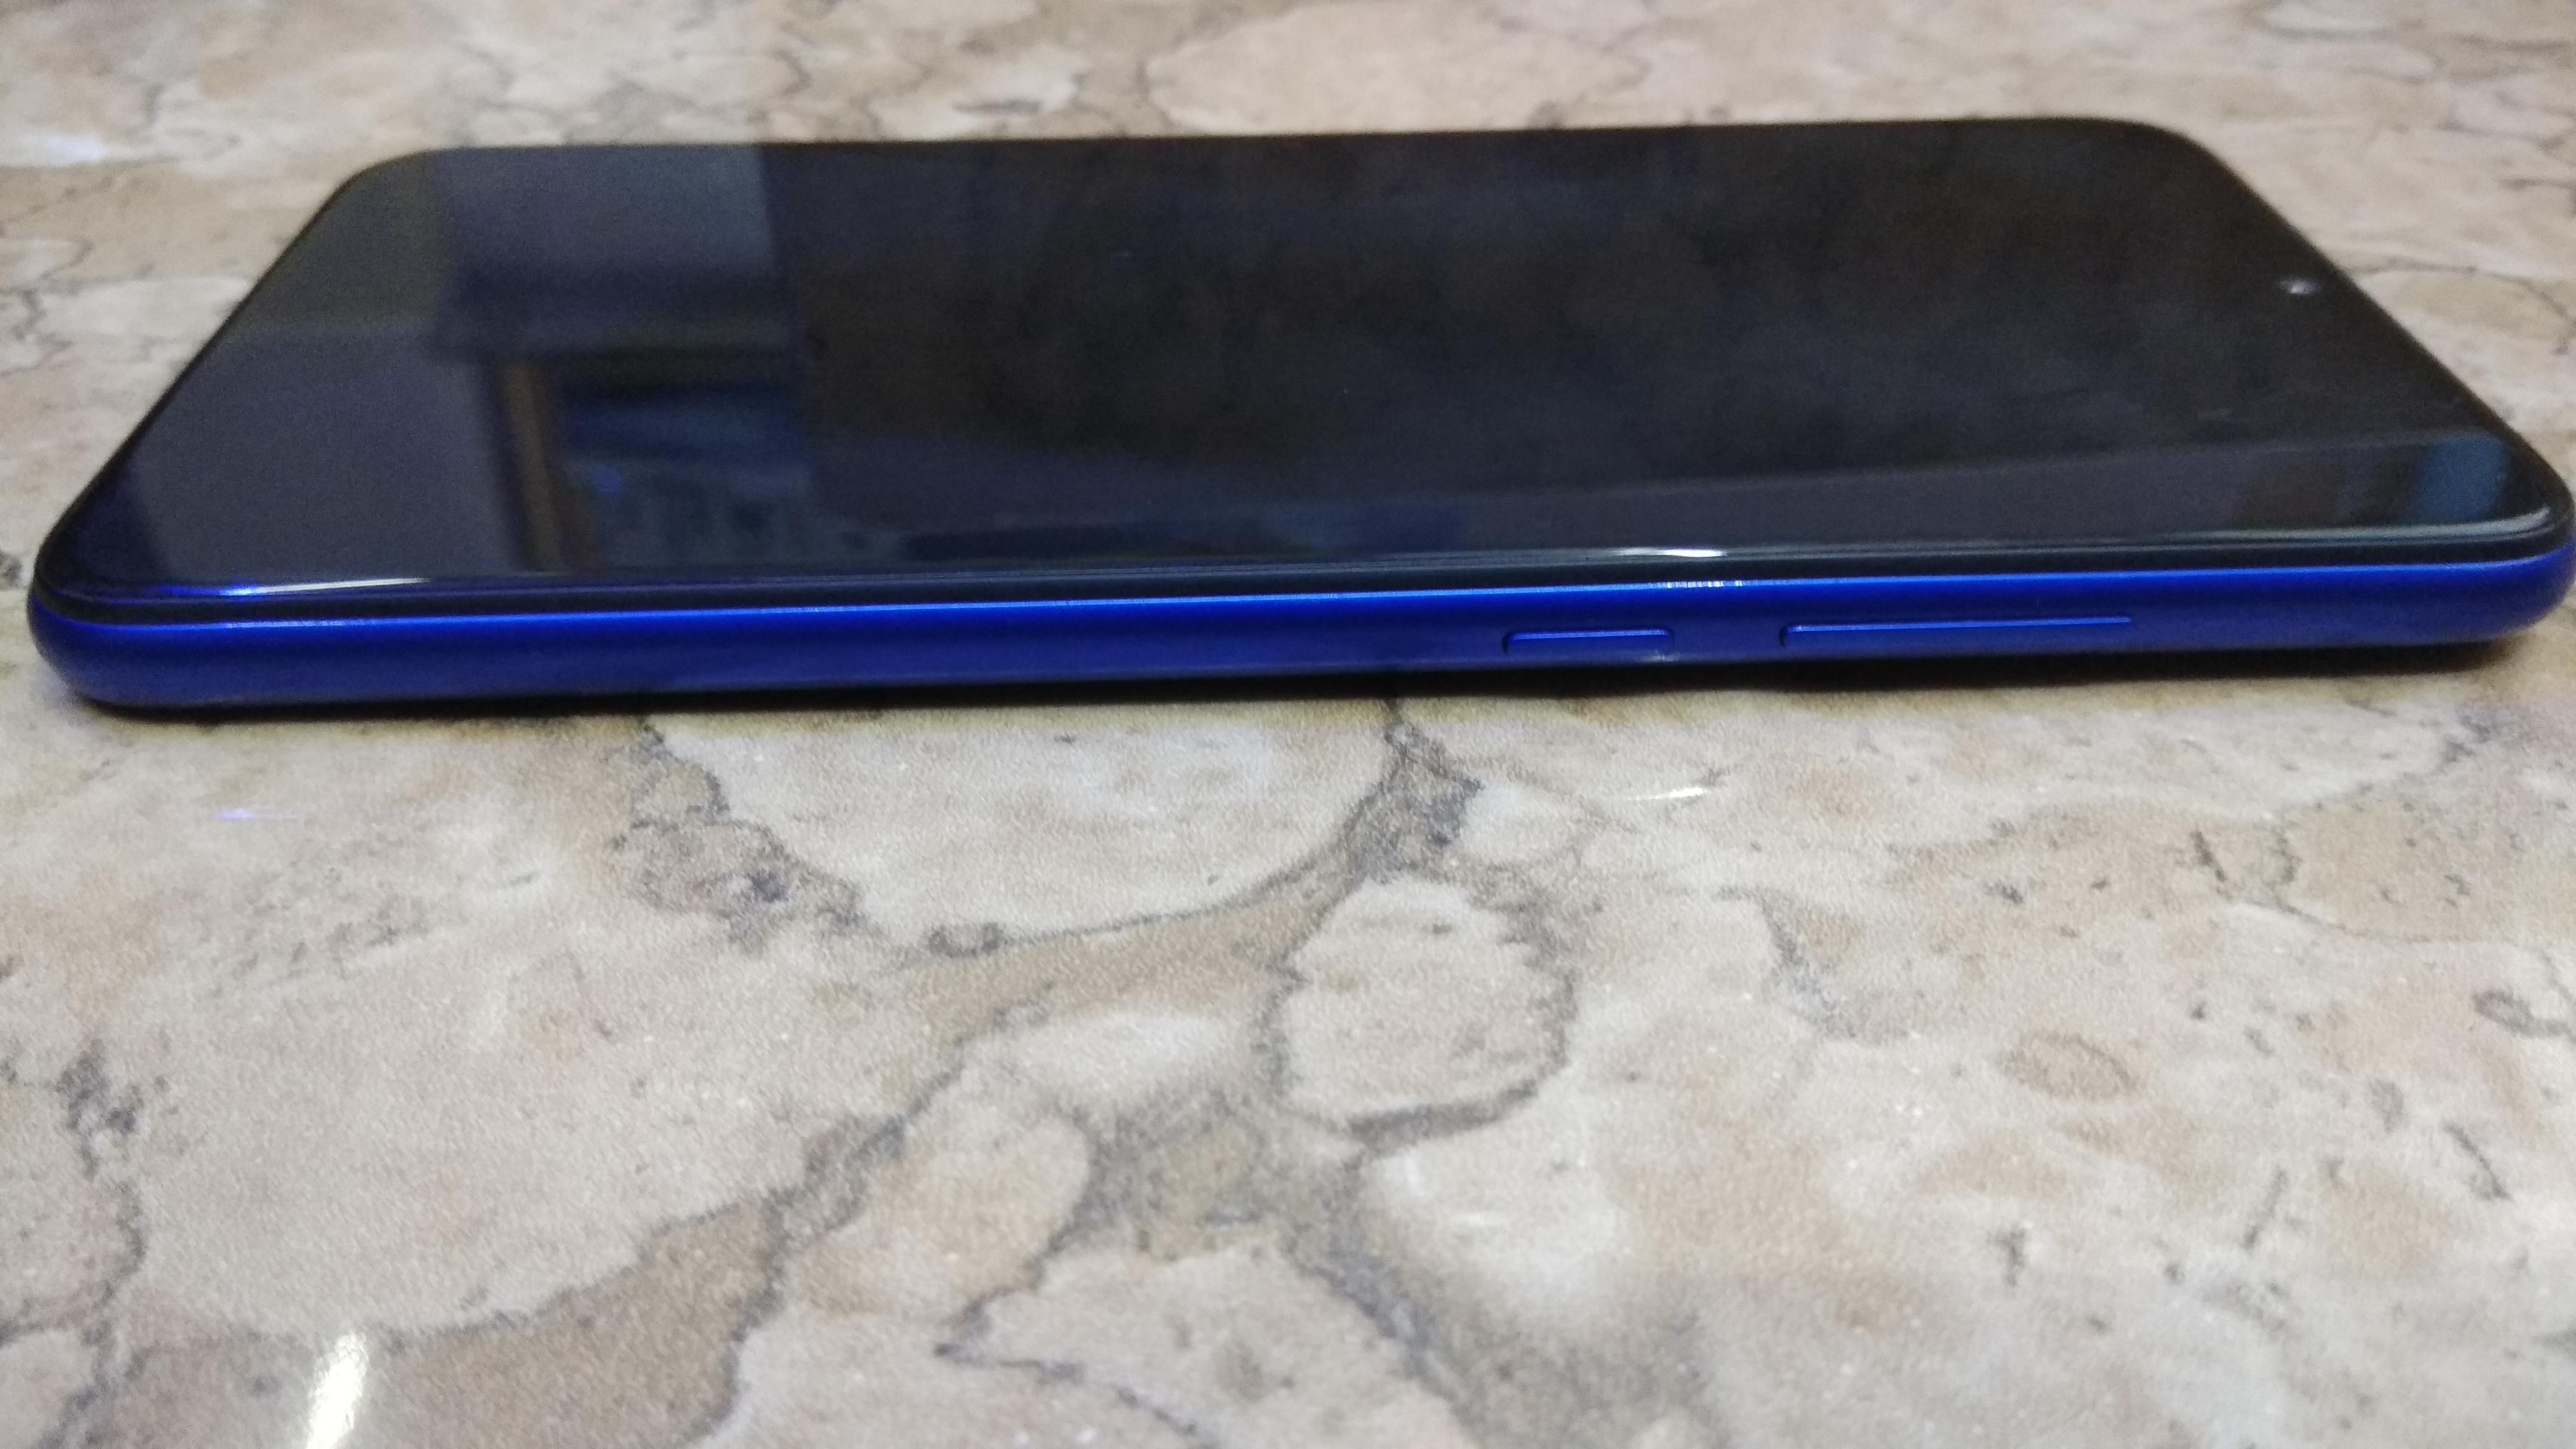Phone: (14, 67, 2576, 761)
